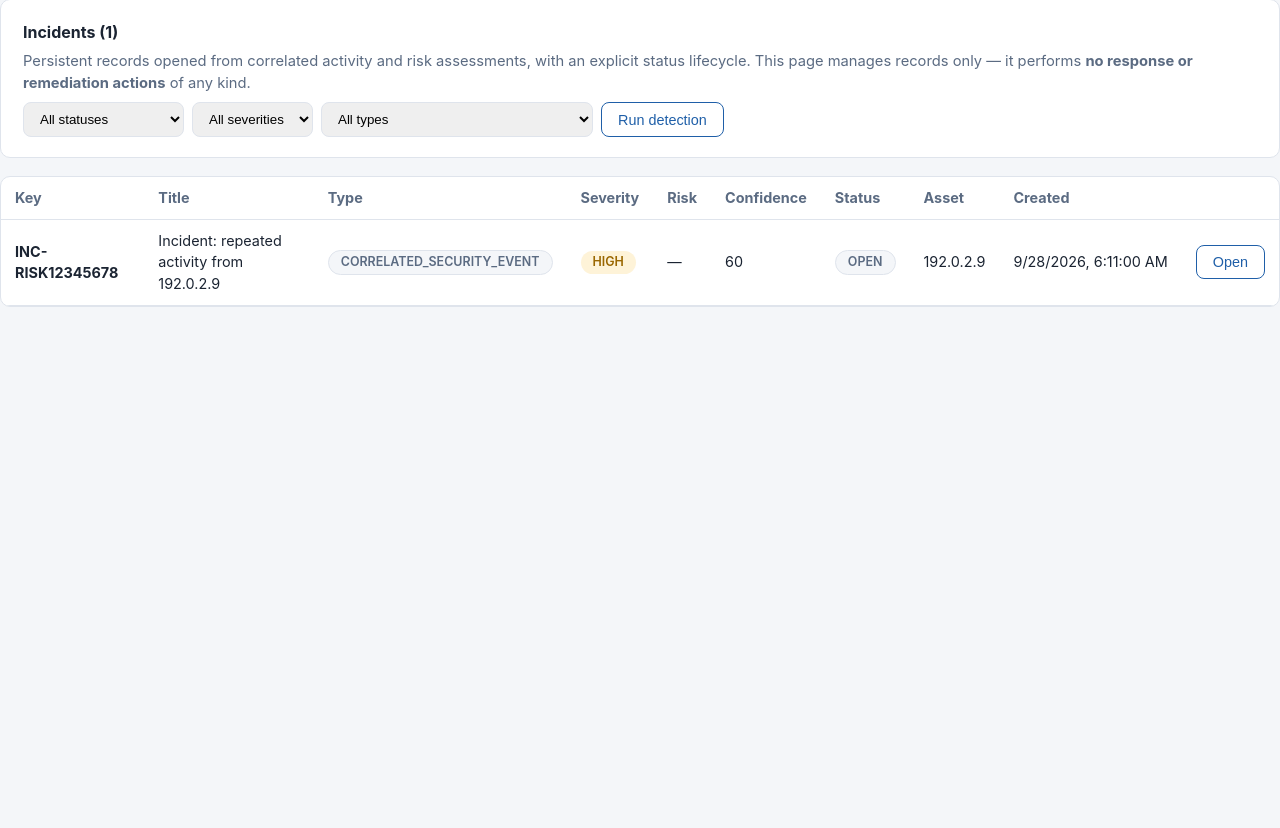
Incident risk panel (Step 25) › shows the unscored empty state then calculates on demand
Click the button "Open" at (1230, 262), box [1196,245,1265,279]
(page scrolled)
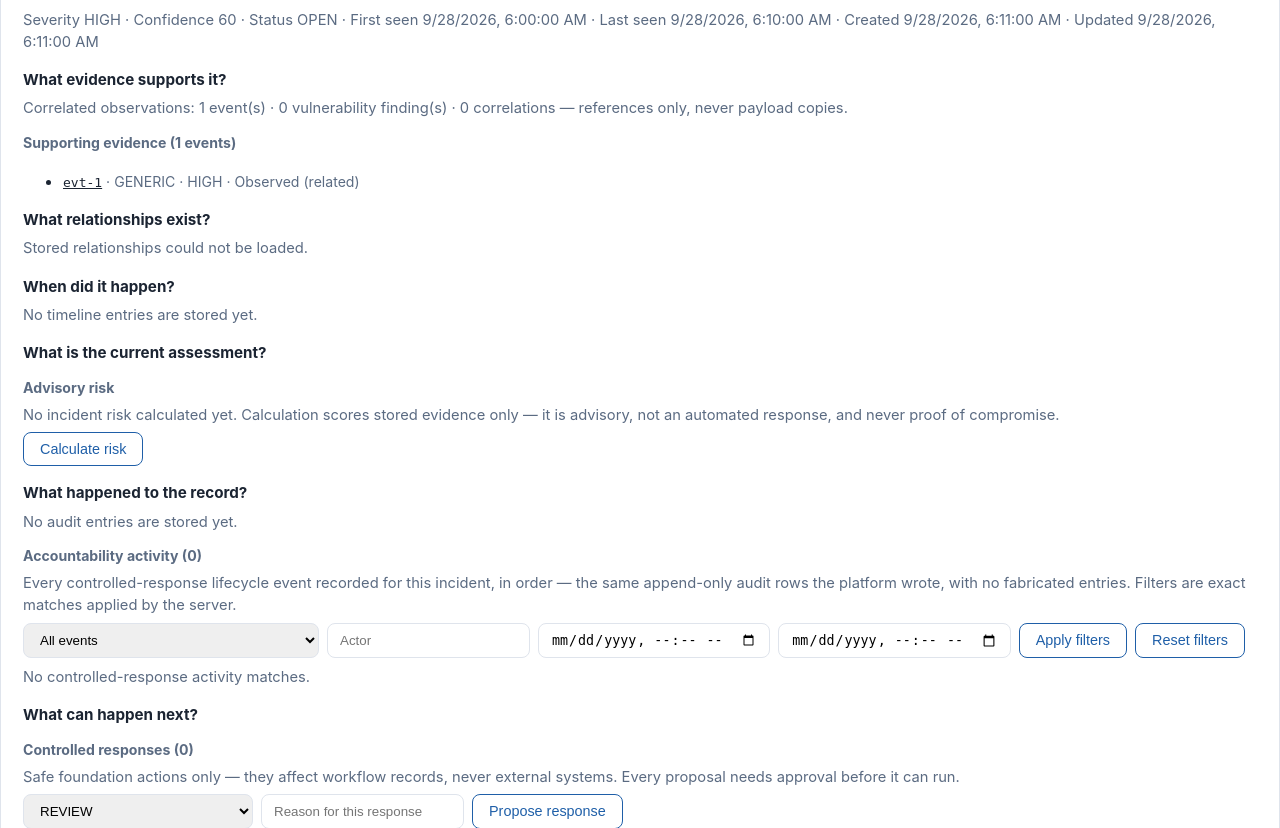
Expected: the heading "Advisory risk" is shown, [23,379,114,396]
Expected: the text "No incident risk calculated yet" is shown, [23,406,1060,424]
Click the button "Calculate risk" at (83, 449), box [23,432,143,466]
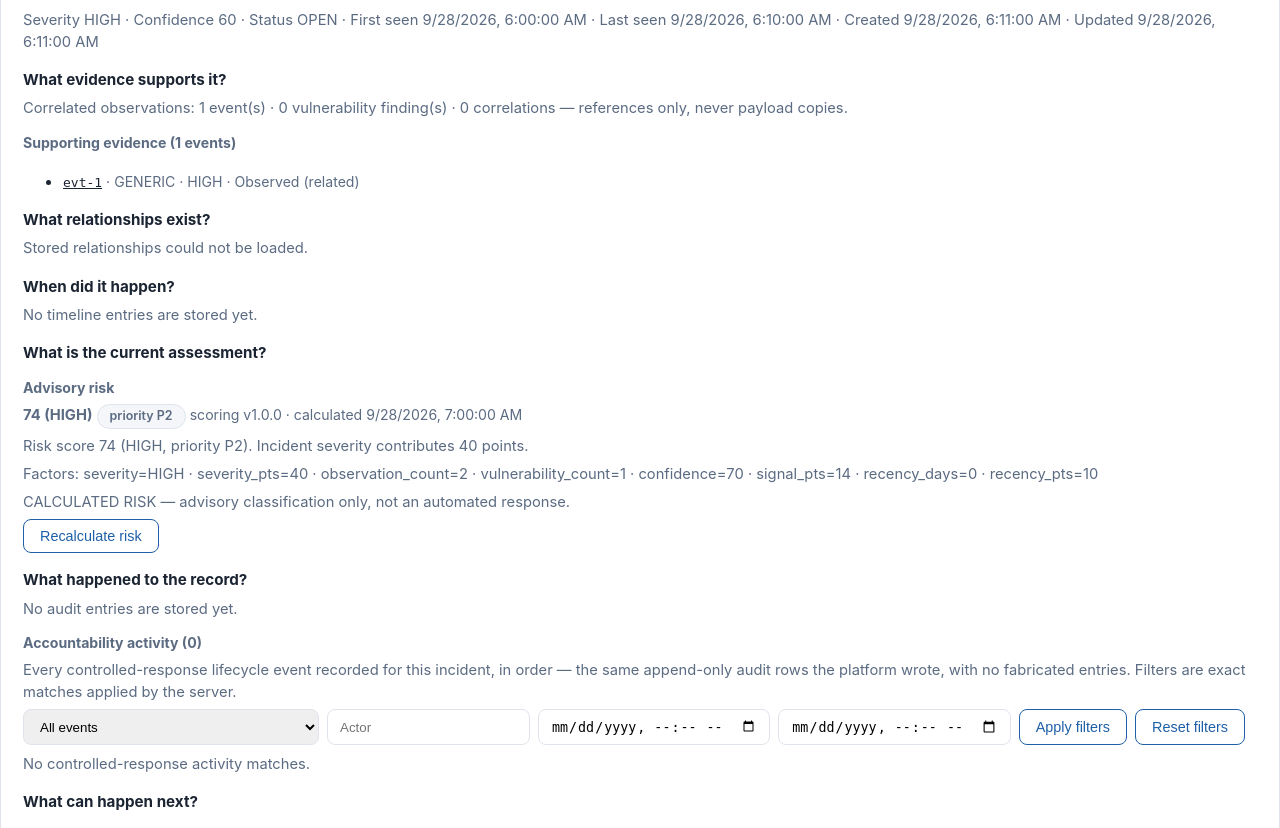
Expected: the text "74 (HIGH)" is shown, [23,406,92,424]
Expected: the text "priority P2" is shown, [97,404,186,429]
Expected: the text "scoring v1.0.0 · calculated 9/28/2026, 7:00:00 AM" is shown, [190,406,522,423]
